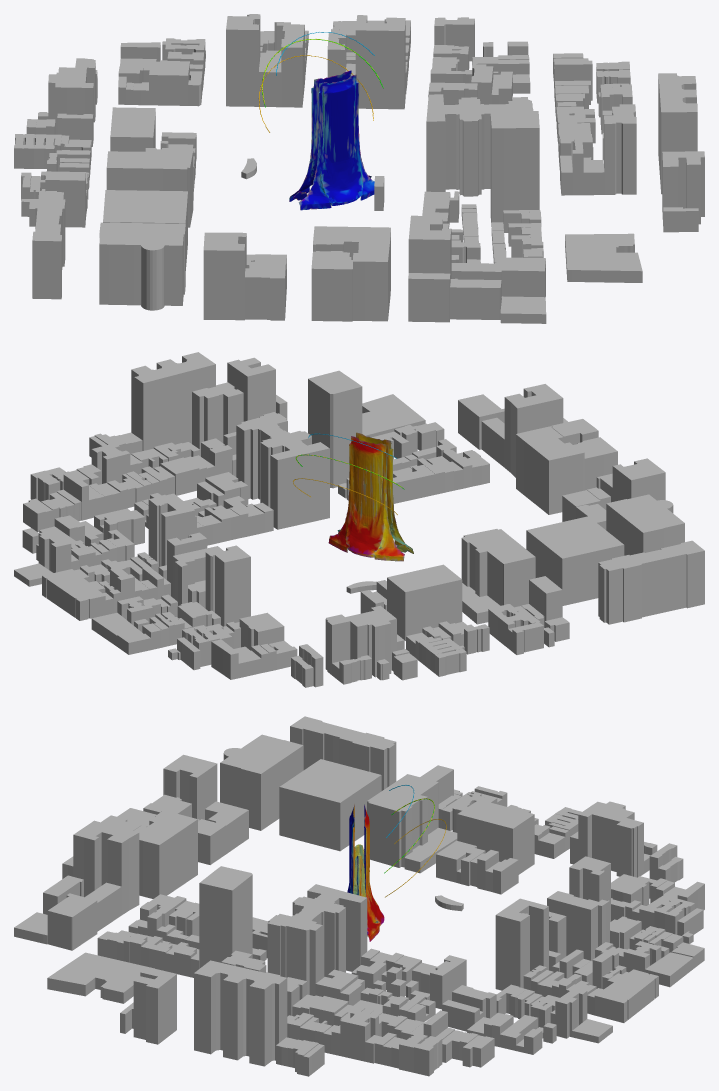
Rendered from solar_radiation_example_image.glb.
The picture shows the model from 3 angles, top to bottom: view 1: azimuth 30°, elevation 25°; view 2: azimuth 150°, elevation 25°; view 3: azimuth 270°, elevation 25°; orthographic projection. The views are drawn at different scales.
Visible parts, largest first — view 1: world; view 2: world; view 3: world.
Part boxes in pixels (x1=…): world: x1=14, y1=14, x2=704, y2=323; world: x1=14, y1=352, x2=704, y2=687; world: x1=14, y1=716, x2=704, y2=1076.
Size of the model in its own units: 5816 by 1183 by 5558.
